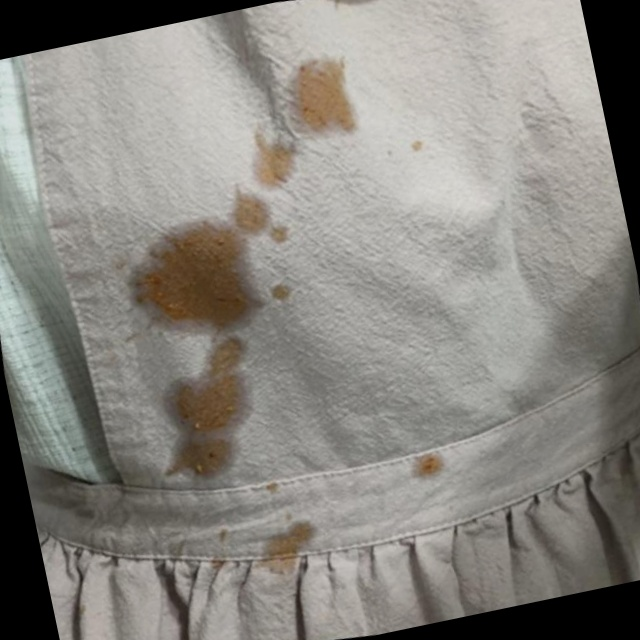kimchi: (96, 181, 361, 492), (219, 40, 384, 191), (181, 470, 331, 602), (395, 432, 461, 495), (410, 134, 434, 160)
